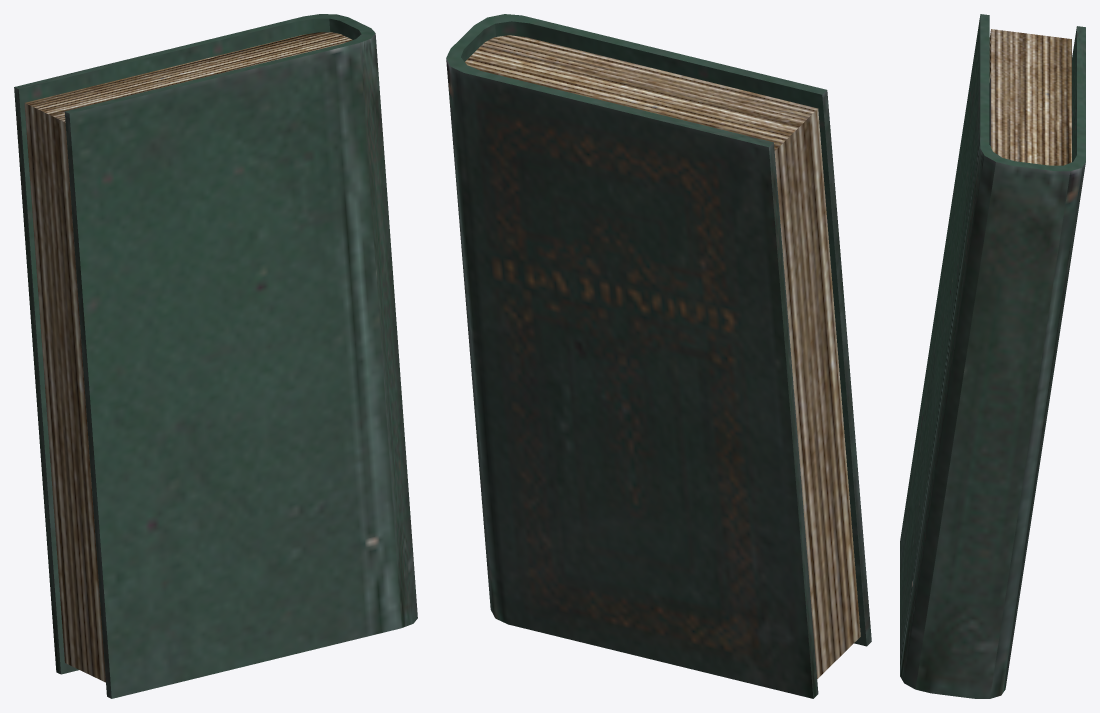
File: green_book.fbx
The picture shows the model from 3 angles, left to right: view 1: azimuth 30°, elevation 25°; view 2: azimuth 150°, elevation 25°; view 3: azimuth 270°, elevation 25°; orthographic projection. The views are drawn at different scales.
Parts seen in each view (by area): view 1: pCube14, pCube12; view 2: pCube14, pCube12; view 3: pCube14, pCube12.
Boxes of the visible parts, x1,y1,x2,y2 form: pCube14: (14,14,417,698); pCube12: (24,32,352,682); pCube14: (446,14,871,698); pCube12: (465,35,860,678); pCube14: (900,14,1085,698); pCube12: (989,29,1071,165).
Size of the model in its own units: 0.6023 by 1.03 by 0.3202.
2 materials, 2 textured.
